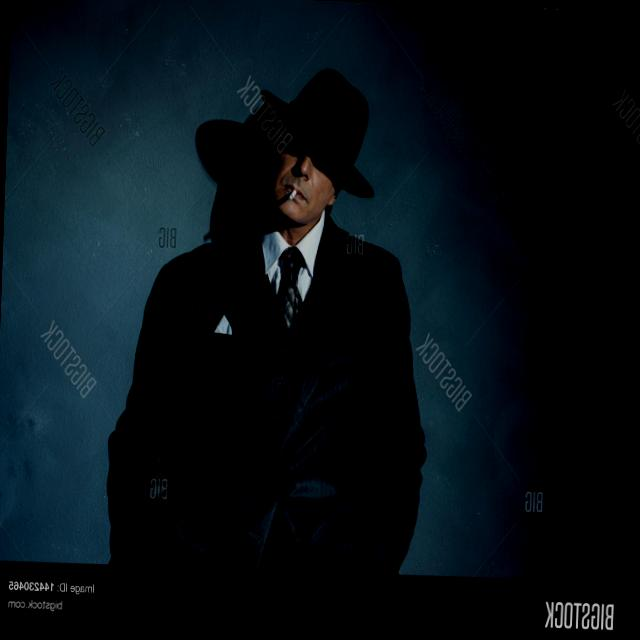cigarette: (286, 180, 301, 213)
